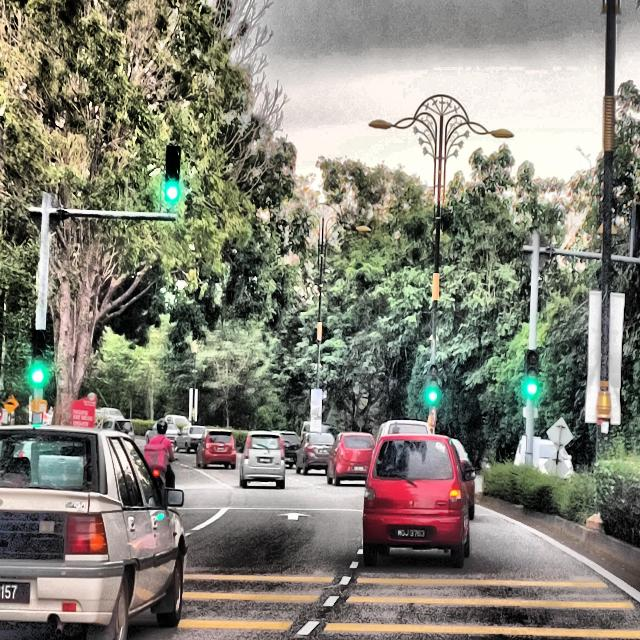green: (164, 145, 180, 204), (30, 328, 45, 386), (524, 348, 540, 398), (426, 364, 440, 402)
